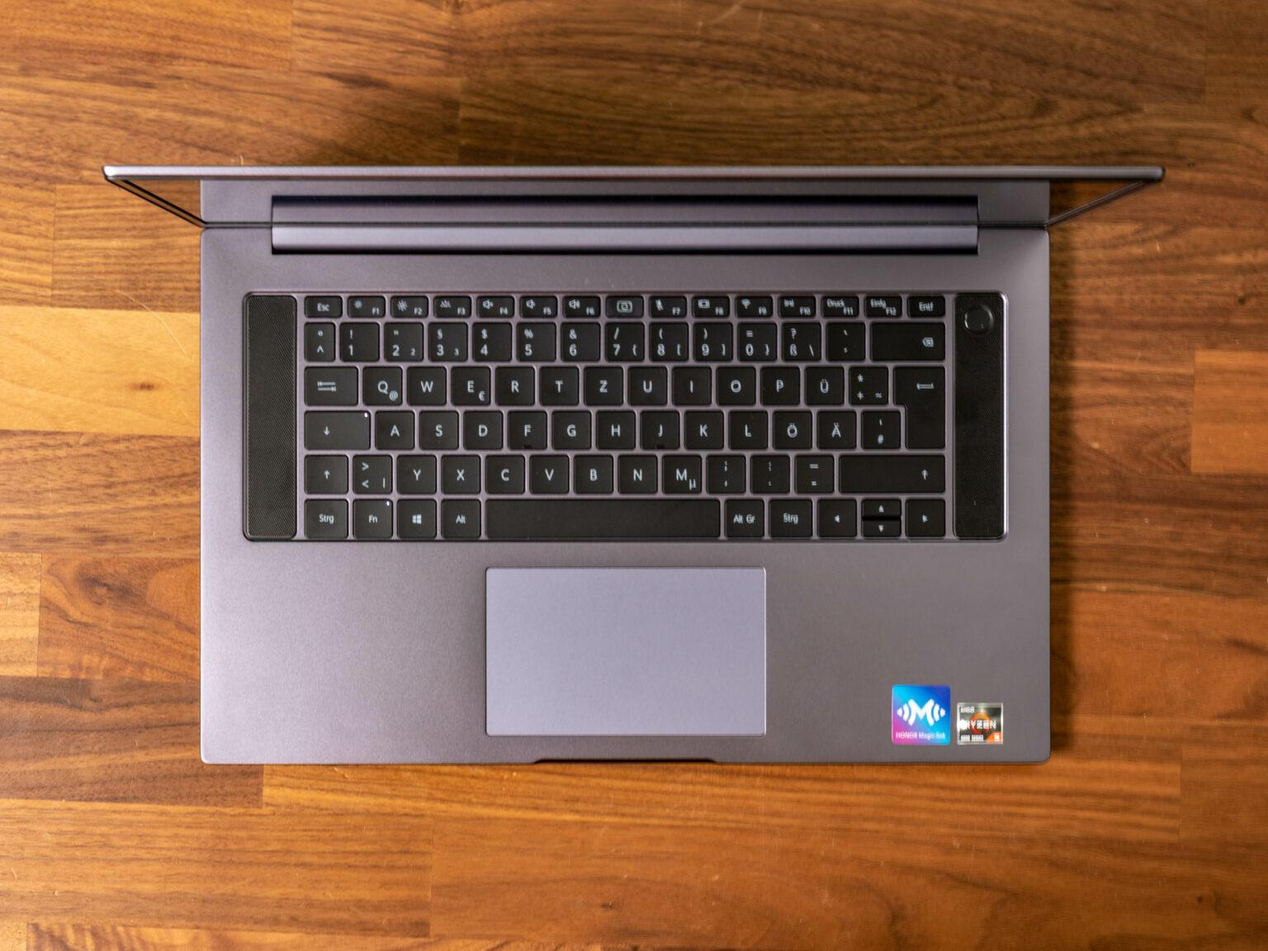0: (734, 319, 775, 359)
1: (337, 319, 378, 360)
2: (381, 319, 422, 359)
3: (424, 319, 466, 359)
4: (471, 319, 511, 360)
5: (513, 319, 554, 360)
6: (557, 319, 599, 360)
7: (603, 319, 644, 360)
8: (647, 319, 687, 360)
9: (690, 319, 731, 359)
a: (372, 407, 414, 448)
accent: (824, 318, 864, 359)
ae: (814, 406, 856, 448)
alt-left: (438, 496, 480, 537)
altgr-right: (722, 495, 764, 537)
b: (570, 451, 613, 492)
c: (482, 451, 524, 493)
caret: (302, 319, 334, 359)
comma: (704, 450, 745, 491)
d: (461, 407, 502, 448)
del: (868, 318, 943, 360)
e: (447, 362, 490, 405)
enter: (891, 362, 944, 448)
f: (505, 407, 546, 447)
g: (549, 407, 590, 447)
h: (594, 406, 635, 448)
hash: (858, 406, 900, 447)
i: (669, 362, 710, 403)
j: (638, 406, 678, 447)
k: (681, 406, 722, 447)
keyboard: (235, 288, 1011, 551)
l: (726, 406, 767, 447)
less: (349, 451, 391, 493)
m: (659, 451, 701, 492)
minus: (792, 451, 833, 491)
n: (614, 451, 657, 492)
o: (713, 362, 755, 404)
oe: (770, 407, 811, 448)
p: (758, 362, 798, 404)
plus: (846, 362, 887, 404)
point: (748, 451, 789, 491)
q: (360, 362, 402, 404)
r: (493, 362, 533, 405)
s: (416, 407, 457, 448)
shift-left: (302, 452, 348, 492)
shift-lock: (301, 407, 369, 447)
shift-right: (837, 450, 943, 491)
space: (483, 495, 719, 538)
ss: (778, 319, 820, 359)
strg-left: (301, 496, 348, 538)
strg-right: (766, 494, 812, 537)
t: (537, 362, 577, 404)
tab: (301, 362, 357, 405)
u: (625, 362, 667, 405)
ue: (802, 362, 843, 405)
v: (527, 451, 568, 492)
w: (405, 362, 446, 404)
x: (438, 451, 479, 493)
y: (394, 451, 435, 493)
z: (581, 362, 622, 404)
